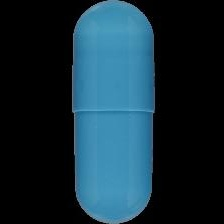42291-810: (0, 0, 224, 224)
